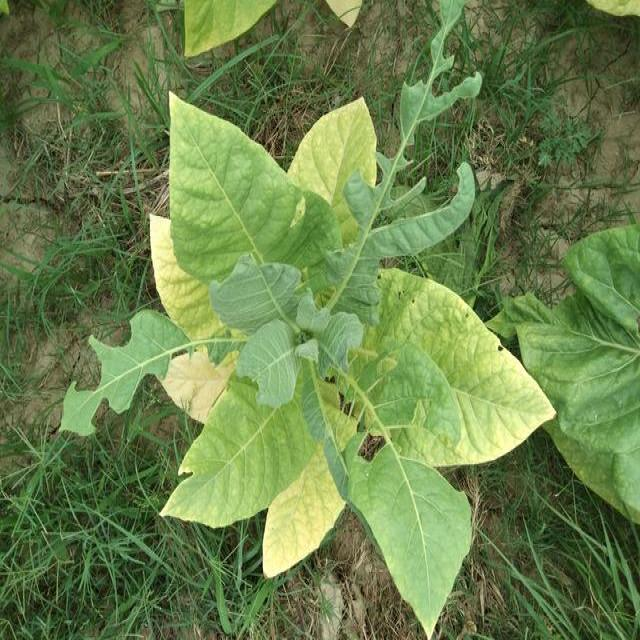crop: (129, 53, 560, 640)
